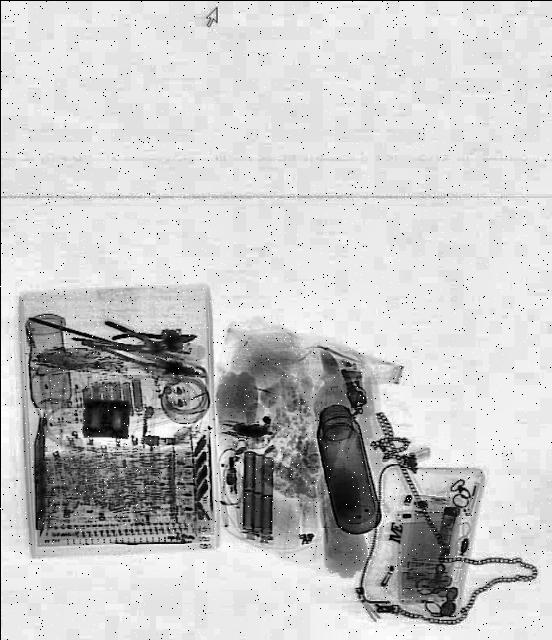Pliers: (109, 322, 197, 356)
